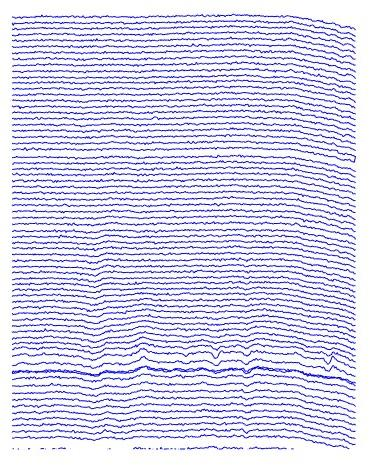defect: (319, 349, 338, 385)
